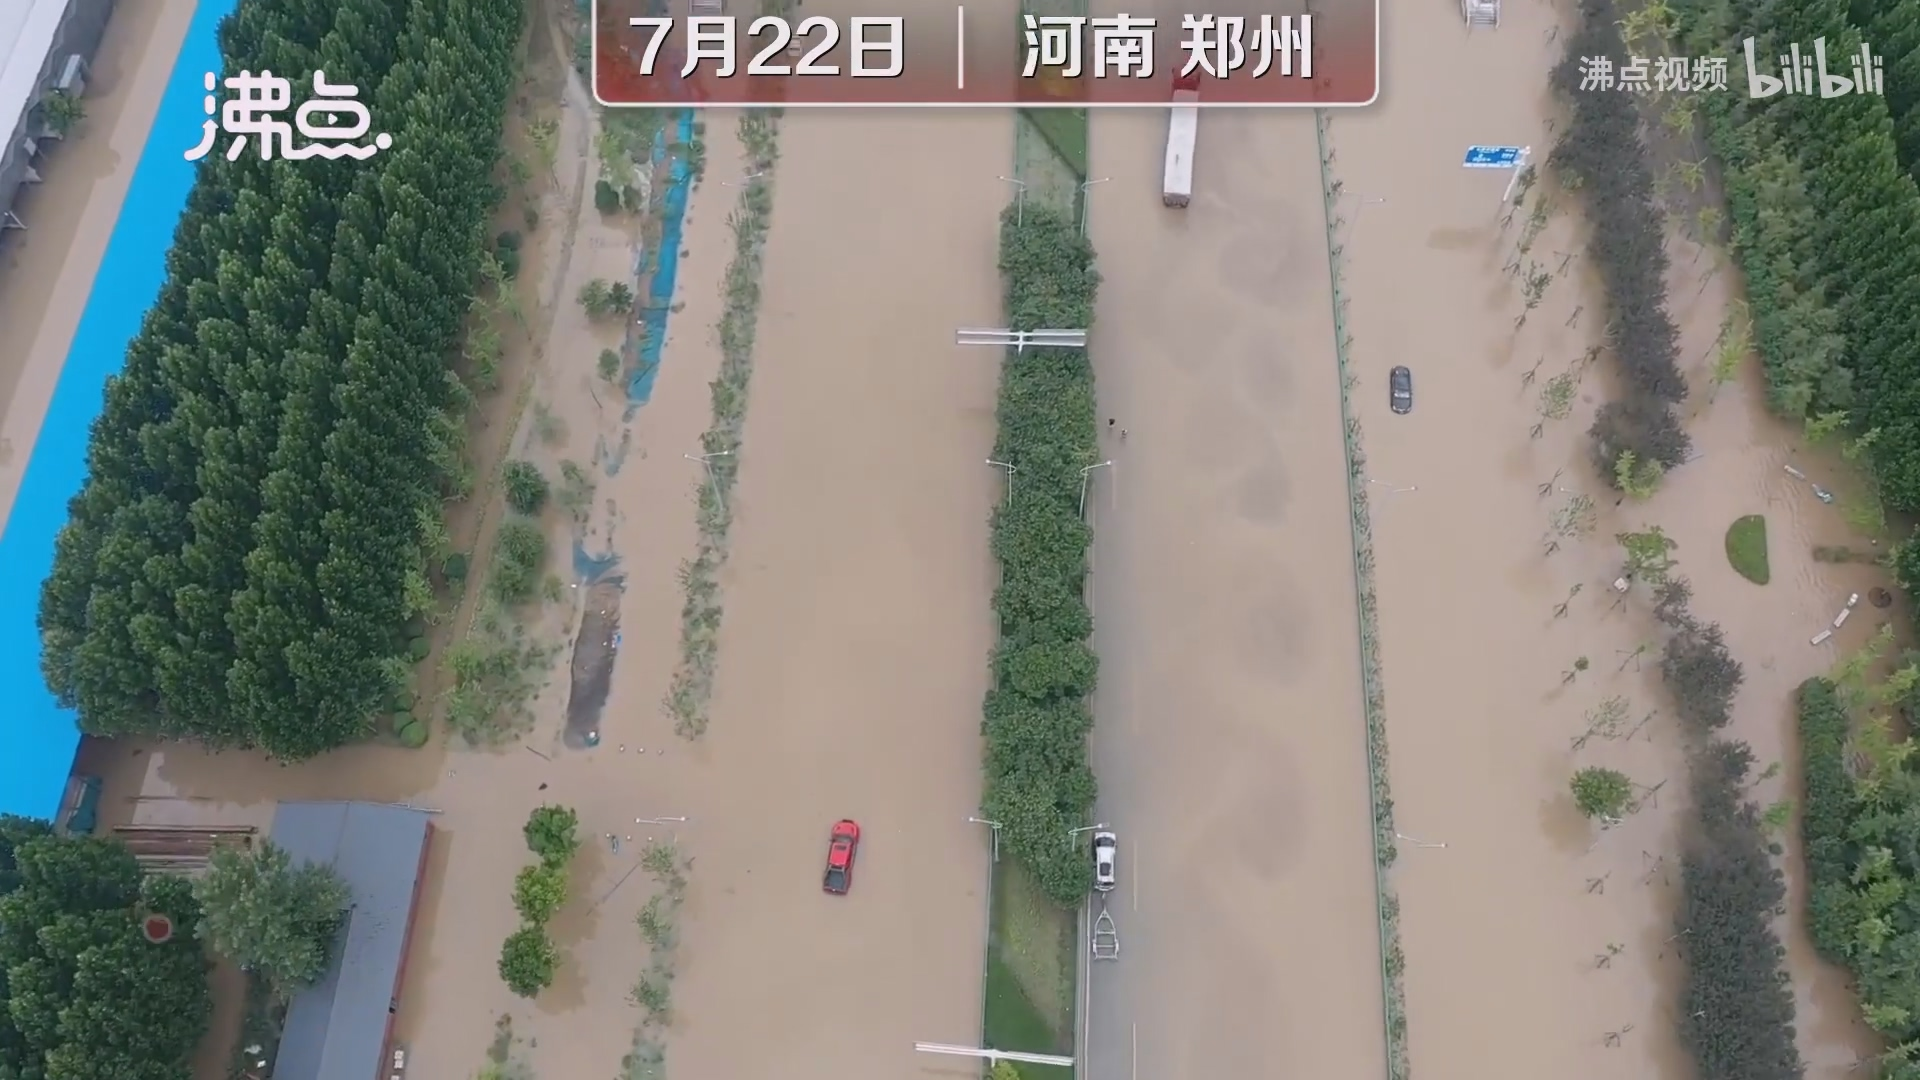puddle: (1069, 167, 1676, 1080), (438, 146, 1015, 1080)
